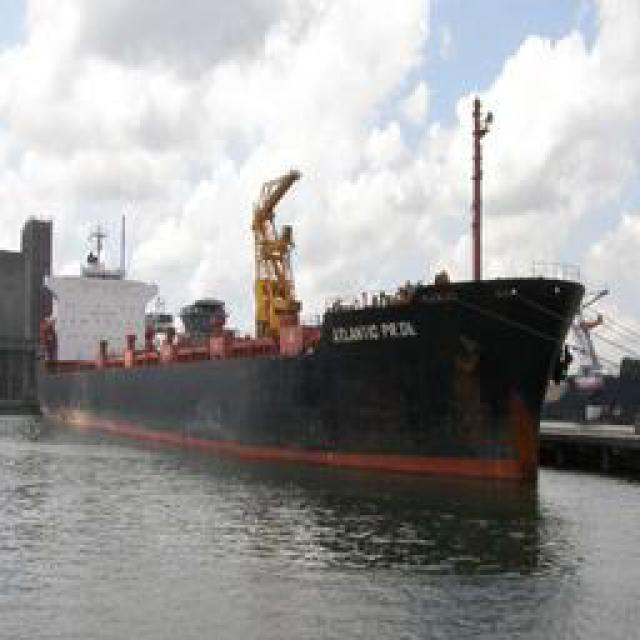Ship: (36, 249, 586, 502)
